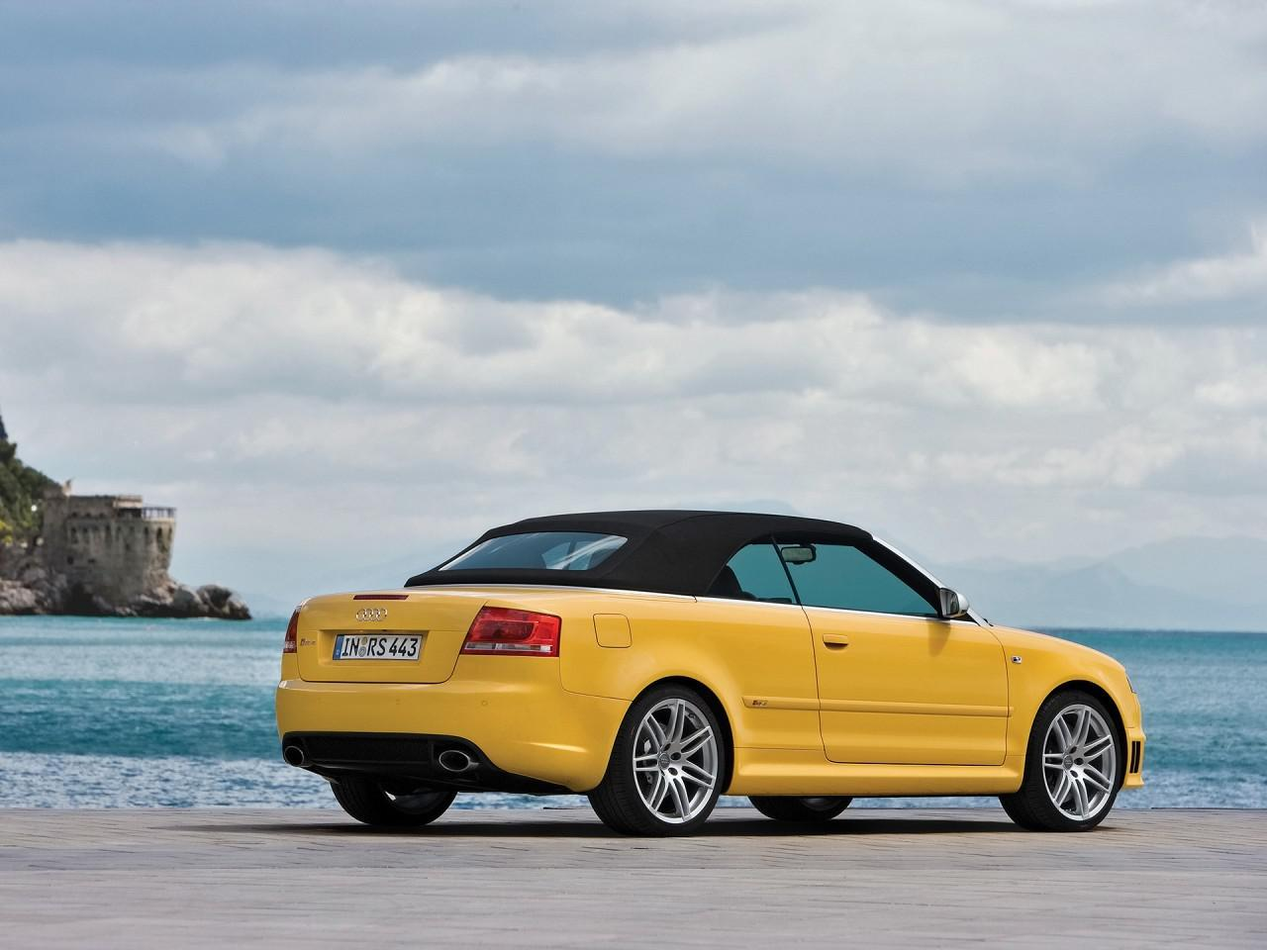Car: (236, 477, 1158, 883)
